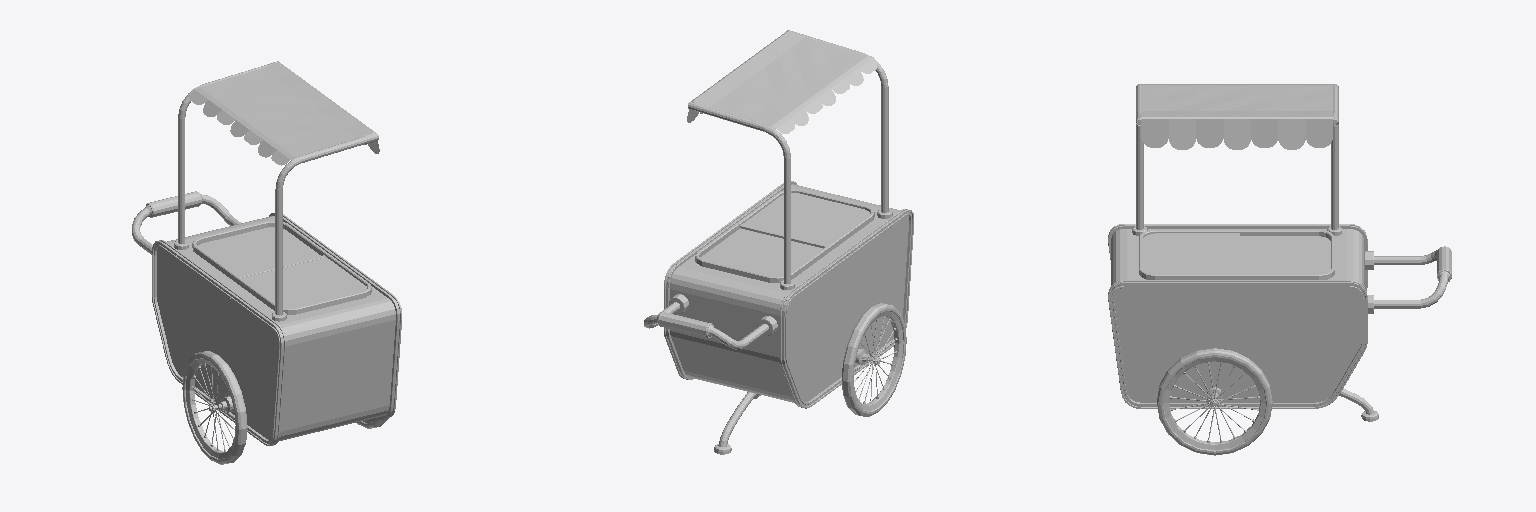
The model's file is CarritoHelados.obj.
3 views of the same model, side by side, from view 1: azimuth 30°, elevation 25°; view 2: azimuth 150°, elevation 25°; view 3: azimuth 270°, elevation 25° (orthographic).
Parts seen in each view (by area): view 1: cara_ic_01; view 2: cara_ic_01; view 3: cara_ic_01.
Boxes of the visible parts, x1=… form: cara_ic_01: x1=132, y1=61, x2=401, y2=464; cara_ic_01: x1=644, y1=30, x2=913, y2=454; cara_ic_01: x1=1108, y1=84, x2=1451, y2=455.
Bounding box in the file's own units: 37.5 × 73.81 × 70.65.